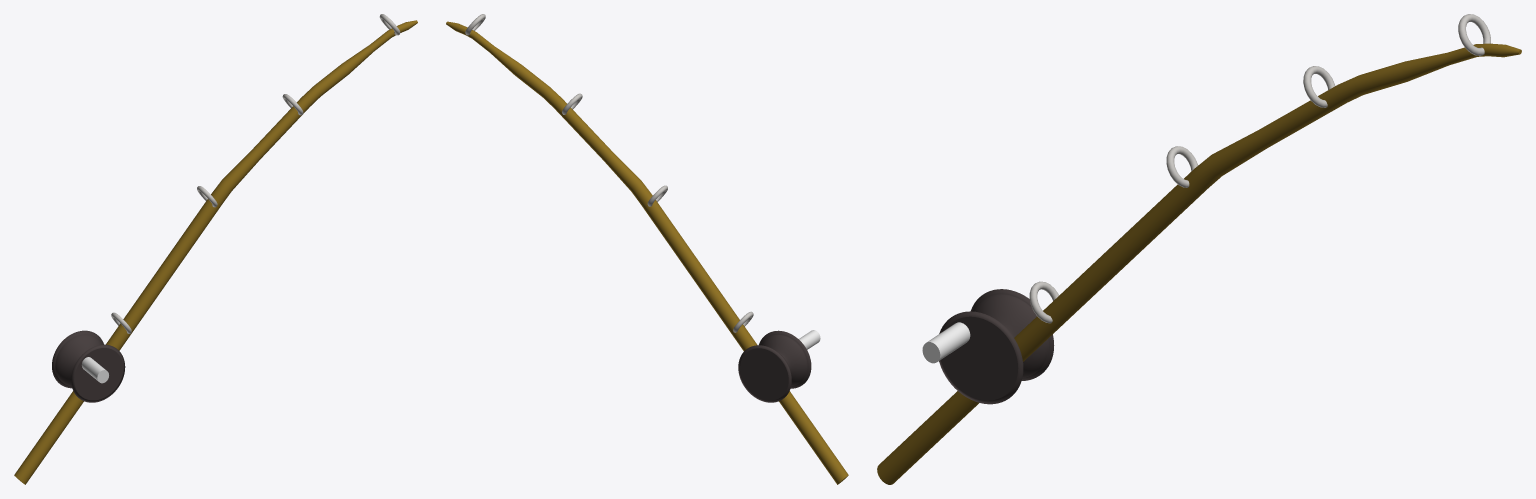
The model's file is pole.fbx.
3 views of the same model, side by side, from view 1: azimuth 30°, elevation 25°; view 2: azimuth 150°, elevation 25°; view 3: azimuth 330°, elevation 25° (orthographic). The views are drawn at different scales.
Parts seen in each view (by area): view 1: rod, spool; view 2: rod, spool; view 3: rod, spool, handle, hook4.
Part boxes in pixels (x1,y1,x2,y2): rod: [14, 20, 417, 484]; spool: [52, 330, 125, 402]; rod: [446, 21, 848, 484]; spool: [738, 330, 811, 402]; rod: [877, 43, 1521, 484]; spool: [939, 289, 1054, 404]; handle: [922, 322, 970, 363]; hook4: [1458, 14, 1490, 55].
Size of the model in its own units: 14.57 by 13.24 by 2.4.
